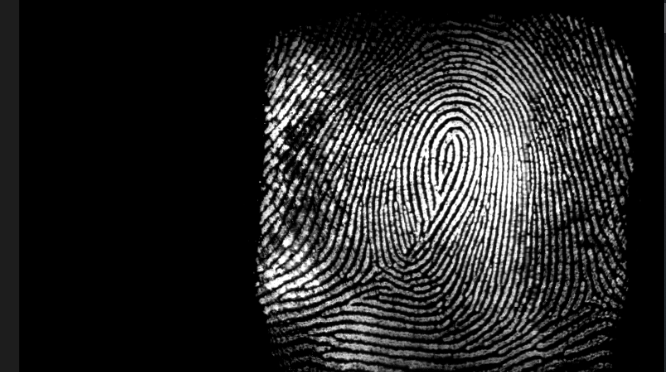nucelo: (435, 126, 465, 188)
verticilo: (569, 280, 609, 313), (360, 253, 393, 288)
